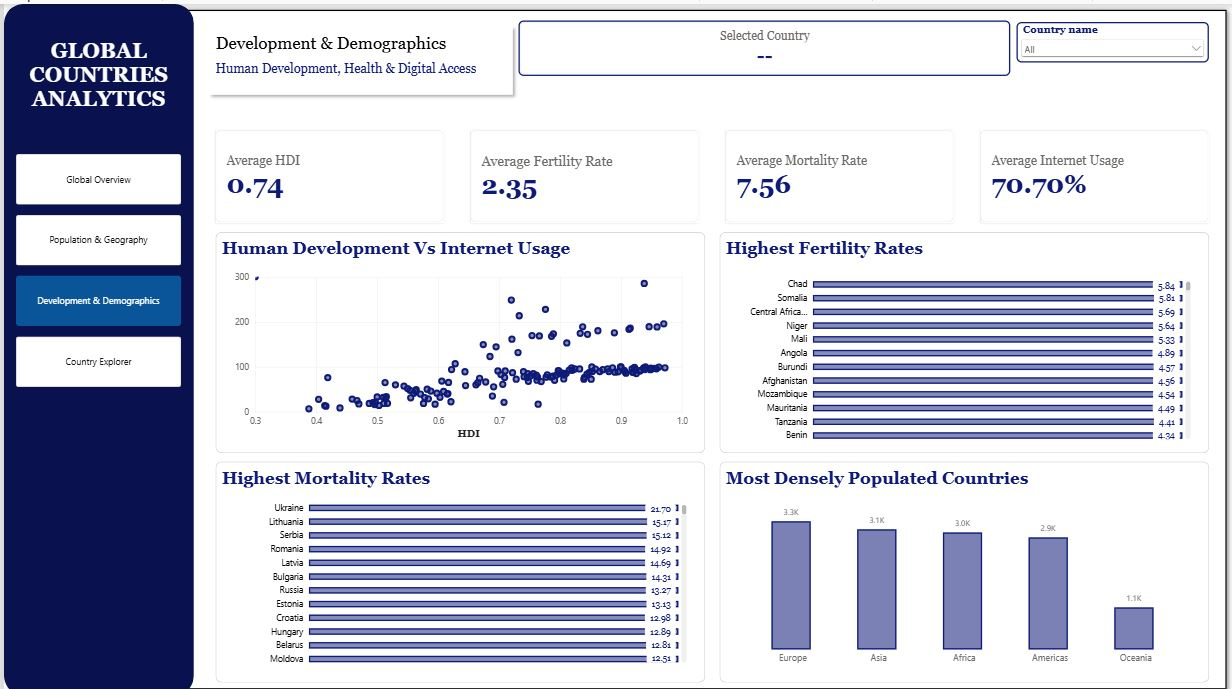

The page's visual inventory and layout, read from the dashboard file:
{"tool":"powerbi","page":{"name":"Development & Demographics","canvas":[1920,1080],"ordinal":2},"visuals":[{"type":"shape","box":[0,0,1920.1,1080.4],"z":0},{"type":"shape","box":[312.9,26.9,492.2,124.9],"z":0,"group":"g1"},{"type":"shape","box":[0,0,296.8,1080.4],"z":1000},{"type":"shape","box":[331.1,90.5,457.8,34.4],"z":1000,"group":"g1"},{"type":"pageNavigator","box":[18.1,235.3,258.8,365.6],"z":2000},{"type":"shape","box":[18.1,27.1,258.8,170.1],"z":3000},{"type":"group","id":"g1","title":"Group 1","box":[312.9,26.9,492.2,124.9],"z":4000},{"type":"cardVisual","fields":{"Data":["country_stats.Average Fertility Rate"]},"box":[729.9,197.3,356.5,144.8],"z":5000},{"type":"cardVisual","fields":{"Data":["country_stats.Average Mortality Rate"]},"box":[1128.6,197.3,356.5,144.8],"z":6000},{"type":"shape","box":[331.2,356.5,765.5,345.6],"z":7000},{"type":"shape","box":[1118.4,356.5,765.5,345.6],"z":8000},{"type":"shape","box":[331.2,714.8,765.5,345.6],"z":9000},{"type":"shape","box":[1118.4,714.8,765.5,345.6],"z":10000},{"type":"hundredPercentStackedBarChart","fields":{"Category":["country_stats.Country name"],"Y":["country_stats.Mortality Rates"]},"box":[345.6,760.1,738.3,285.9],"z":11000},{"type":"textbox","box":[1241.4,269.6,56.1,56.1],"z":12000},{"type":"cardVisual","fields":{"Data":["country_stats.Average HDI"]},"box":[331.2,197.3,356.5,144.8],"z":13000},{"type":"cardVisual","fields":{"Data":["country_stats.Avg Interet Usage"]},"box":[1527.4,197.3,356.5,144.8],"z":14000},{"type":"scatterChart","fields":{"X":["country_stats.HDI"],"Y":["Sum(country_stats.% of internet users in population)"]},"box":[344,402.4,740.2,293.2],"z":15000},{"type":"hundredPercentStackedBarChart","fields":{"Category":["country_stats.Country name"],"Y":["country_stats.Fertility Rates"]},"box":[1132.8,410.8,738.3,285.9],"z":16000},{"type":"columnChart","fields":{"Category":["Region.Continent"],"Y":["Sum(country_stats.% of internet users in population)"]},"box":[1129.2,760.1,742,293.2],"z":17000},{"type":"slicer","fields":{"Values":["country_stats.Country name"]},"box":[1583.5,27.1,300.4,63.3],"z":18000},{"type":"cardVisual","title":"Country ","fields":{"Data":["country_stats.Country Names"]},"box":[804.2,25.8,769,86.7],"z":19000}]}

Visuals, with their boxes on the page's 1920x1080 design canvas (x1, y1, x2, y2). These are canvas units, not pixel positions in the 1232x689 screenshot, which may show the page scaled, cropped or inside an application window:
shape: <bbox>0, 0, 1920, 1080</bbox>
shape: <bbox>313, 27, 805, 152</bbox>
shape: <bbox>0, 0, 297, 1080</bbox>
shape: <bbox>331, 90, 789, 125</bbox>
pageNavigator: <bbox>18, 235, 277, 601</bbox>
shape: <bbox>18, 27, 277, 197</bbox>
"Group 1" group: <bbox>313, 27, 805, 152</bbox>
cardVisual - country_stats.Average Fertility Rate: <bbox>730, 197, 1086, 342</bbox>
cardVisual - country_stats.Average Mortality Rate: <bbox>1129, 197, 1485, 342</bbox>
shape: <bbox>331, 356, 1097, 702</bbox>
shape: <bbox>1118, 356, 1884, 702</bbox>
shape: <bbox>331, 715, 1097, 1060</bbox>
shape: <bbox>1118, 715, 1884, 1060</bbox>
hundredPercentStackedBarChart - country_stats.Country name x country_stats.Mortality Rates: <bbox>346, 760, 1084, 1046</bbox>
textbox: <bbox>1241, 270, 1298, 326</bbox>
cardVisual - country_stats.Average HDI: <bbox>331, 197, 688, 342</bbox>
cardVisual - country_stats.Avg Interet Usage: <bbox>1527, 197, 1884, 342</bbox>
scatterChart - country_stats.HDI x Sum(country_stats.% of internet users in population): <bbox>344, 402, 1084, 696</bbox>
hundredPercentStackedBarChart - country_stats.Country name x country_stats.Fertility Rates: <bbox>1133, 411, 1871, 697</bbox>
columnChart - Region.Continent x Sum(country_stats.% of internet users in population): <bbox>1129, 760, 1871, 1053</bbox>
slicer - country_stats.Country name: <bbox>1584, 27, 1884, 90</bbox>
"Country " cardVisual: <bbox>804, 26, 1573, 112</bbox>
